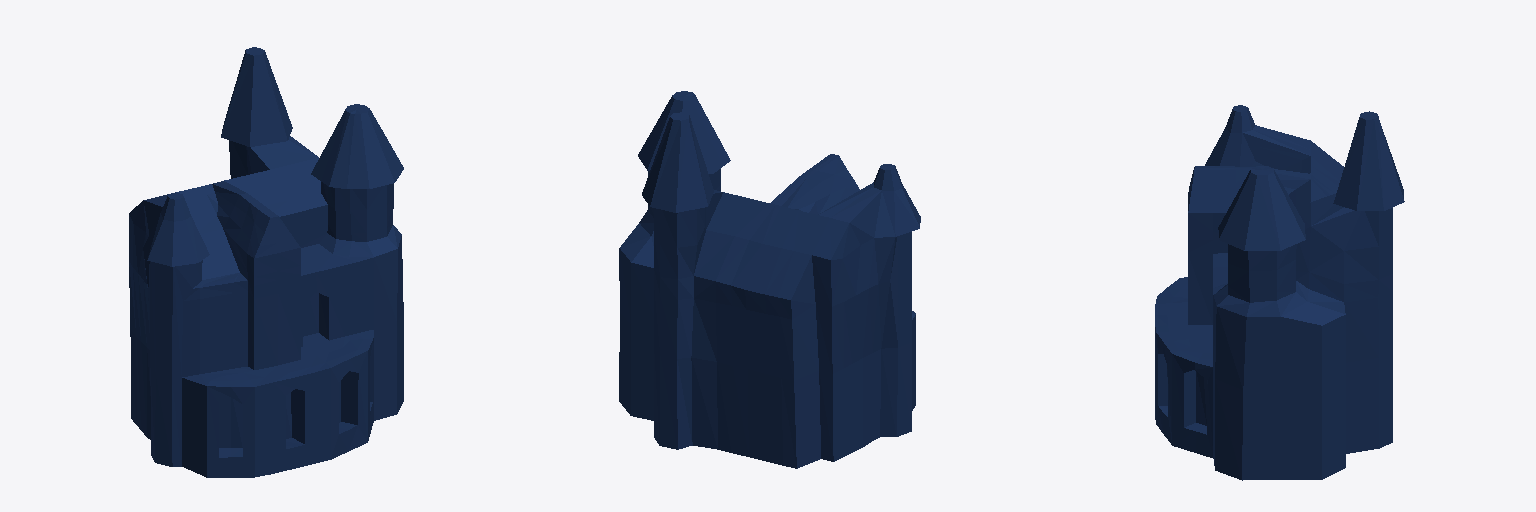
Rendered from castlemodeled.obj.
3 renders of one model, left to right at view 1: azimuth 30°, elevation 25°; view 2: azimuth 150°, elevation 25°; view 3: azimuth 270°, elevation 25°, orthographic.
Parts seen in each view (by area): view 1: castle; view 2: castle; view 3: castle.
Boxes of the visible parts, x1,y1,x2,y2 form: castle: [129, 47, 403, 477]; castle: [619, 91, 920, 468]; castle: [1155, 105, 1404, 480].
Size of the model in its own units: 8.23 by 9.73 by 6.8.